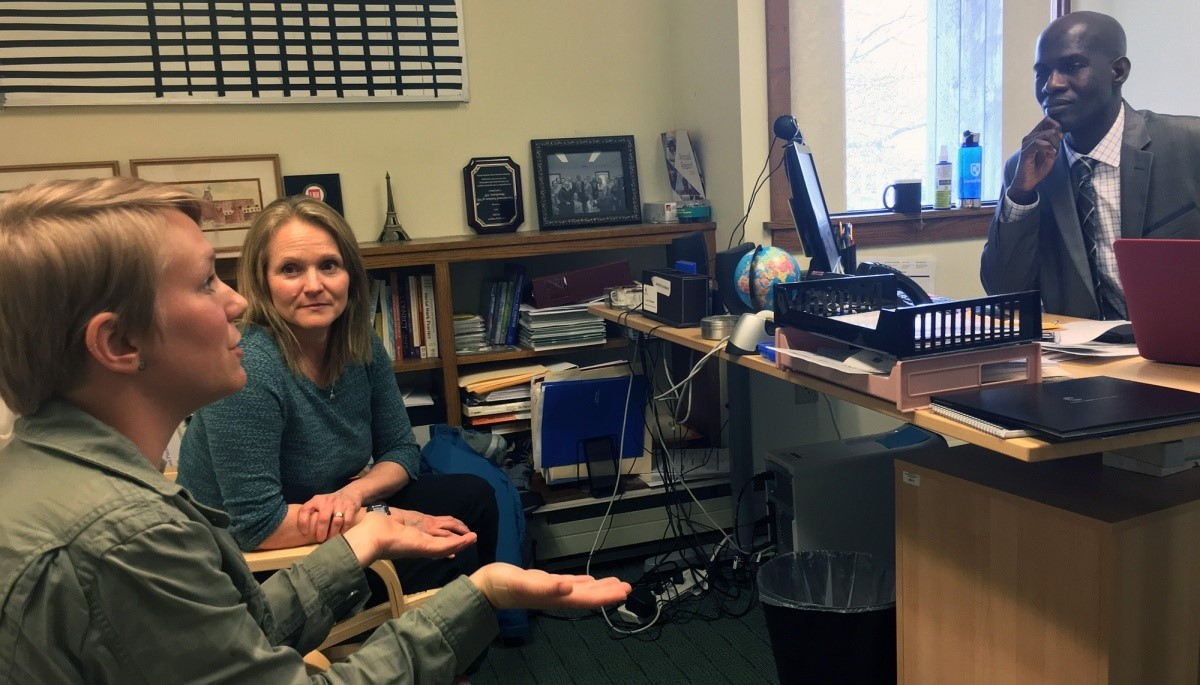face_no_mask: (1, 179, 249, 420), (236, 196, 366, 324), (1034, 10, 1131, 128)
